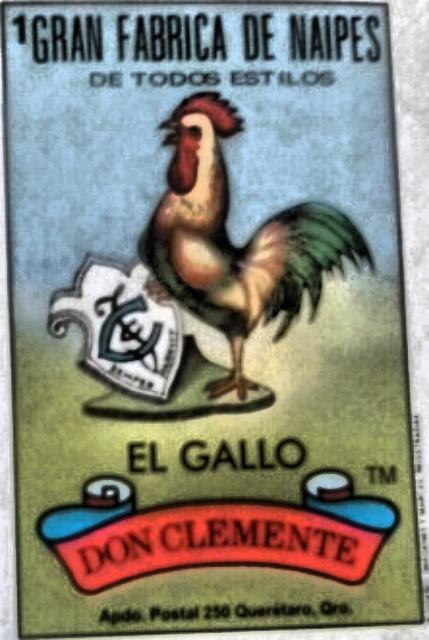El Gallo: (1, 3, 425, 635)
